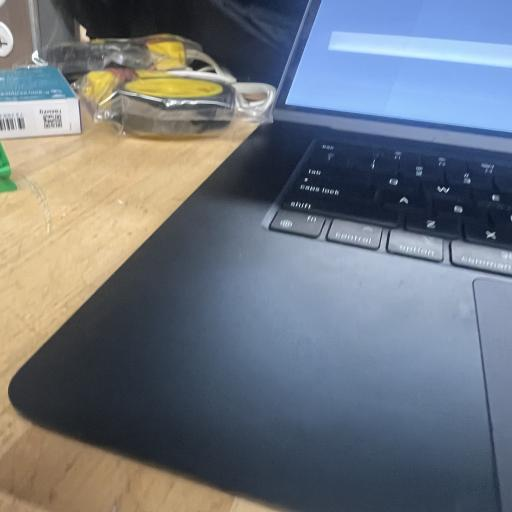green-lego-minifigure-detector: (0, 142, 17, 193)
